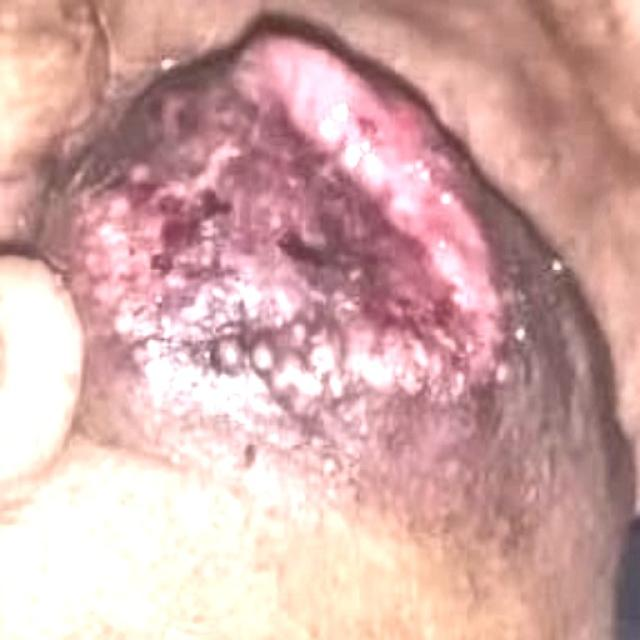cancer-detection: (26, 16, 607, 527)
processing_area: (0, 0, 639, 543)
